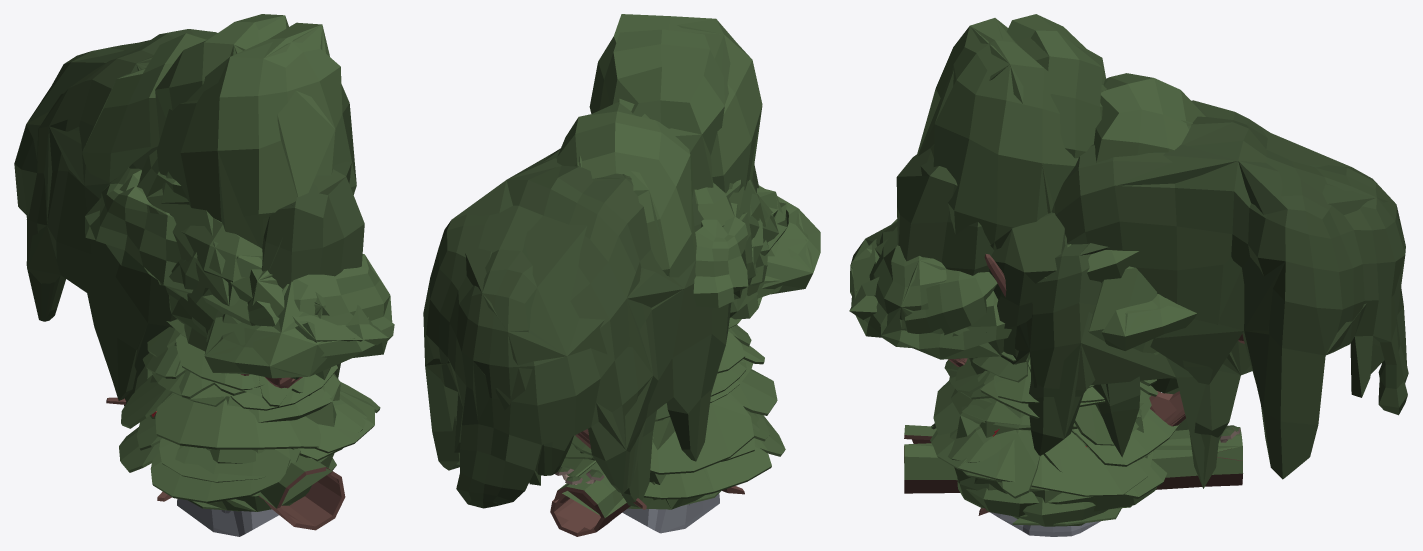
Rendered from nature.glb.
3 views of the same model, side by side, from view 1: azimuth 30°, elevation 25°; view 2: azimuth 150°, elevation 25°; view 3: azimuth 270°, elevation 25° (orthographic). The views are drawn at different scales.
Visible parts, largest first — view 1: BirchTree_2 (×2), Willow_2 (×2), CommonTree_1 (×2), CommonTree_2 (×2), PineTree_2, PineTree_3, BirchTree_1, CommonTree_4, BirchTree_3 (×2), PineTree_1, WoodLog_Moss (×2), Bush_1 (×2) (+4 smaller); view 2: Willow_2 (×2), BirchTree_1 (×2), BirchTree_3 (×2), BirchTree_2 (×2), PineTree_2, PineTree_3, CommonTree_4, WoodLog_Moss (×2), CommonTree_1 (×2), CommonTree_2 (×2), Willow_1, Rock_Moss_4 (+4 smaller); view 3: Willow_2 (×2), BirchTree_2 (×2), Willow_1 (×2), BirchTree_3 (×2), CommonTree_1 (×2), BirchTree_1, PineTree_1, CommonTree_2 (×2), PineTree_3, WoodLog_Moss, PineTree_2, Bush_1 (+4 smaller).
Boxes of the visible parts, x1,y1,x2,y2 form: BirchTree_2 (×2): [157, 22, 364, 379]; Willow_2 (×2): [14, 29, 217, 400]; CommonTree_1 (×2): [204, 254, 394, 379]; CommonTree_2 (×2): [137, 149, 388, 388]; PineTree_2: [121, 327, 320, 449]; PineTree_3: [119, 343, 380, 503]; BirchTree_1: [82, 33, 210, 182]; CommonTree_4: [85, 167, 192, 297]; BirchTree_3 (×2): [155, 14, 288, 204]; PineTree_1: [137, 342, 374, 482]; WoodLog_Moss (×2): [106, 370, 345, 530]; Bush_1 (×2): [198, 380, 337, 511]; Willow_2 (×2): [423, 148, 731, 508]; BirchTree_1 (×2): [557, 102, 696, 277]; BirchTree_3 (×2): [599, 29, 744, 210]; BirchTree_2 (×2): [589, 14, 762, 193]; PineTree_2: [571, 325, 777, 474]; PineTree_3: [560, 343, 785, 499]; CommonTree_4: [693, 212, 755, 308]; WoodLog_Moss (×2): [550, 460, 646, 536]; CommonTree_1 (×2): [757, 185, 820, 298]; CommonTree_2 (×2): [694, 179, 788, 255]; Willow_1: [529, 403, 666, 507]; Rock_Moss_4: [622, 493, 719, 533]; Willow_2 (×2): [1051, 100, 1408, 479]; BirchTree_2 (×2): [896, 18, 1078, 275]; Willow_1 (×2): [969, 243, 1252, 488]; BirchTree_3 (×2): [986, 14, 1106, 355]; CommonTree_1 (×2): [850, 221, 1196, 363]; BirchTree_1: [1088, 73, 1205, 393]; PineTree_1: [931, 351, 1157, 496]; CommonTree_2 (×2): [849, 219, 1139, 366]; PineTree_3: [930, 370, 1166, 498]; WoodLog_Moss: [904, 425, 1243, 493]; PineTree_2: [933, 358, 1180, 482]; Bush_1: [950, 388, 1141, 516].
Size of the model in its own units: 2.2 by 4.29 by 4.41.
